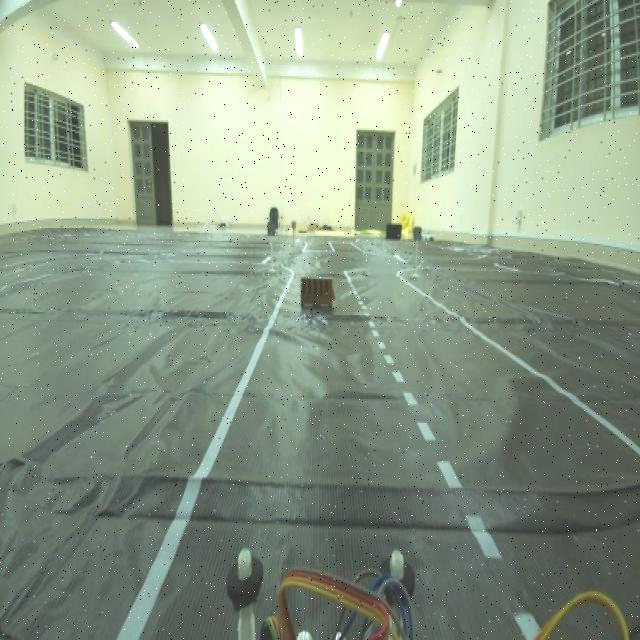roadblock: (296, 273, 341, 316)
